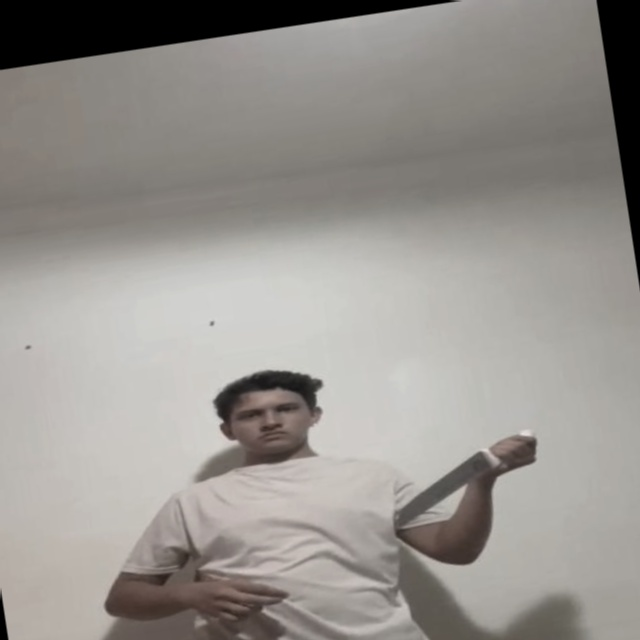Sharp-Object: (396, 446, 496, 519)
